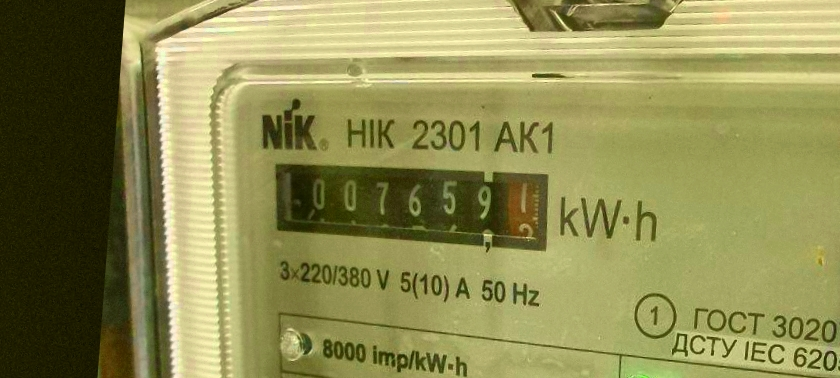0: (338, 174, 361, 216), (308, 174, 330, 213)
1: (512, 178, 534, 216)
5: (437, 176, 461, 218)
6: (402, 178, 427, 220)
7: (369, 176, 394, 217)
9: (472, 181, 496, 223)
screen: (260, 148, 558, 261)
